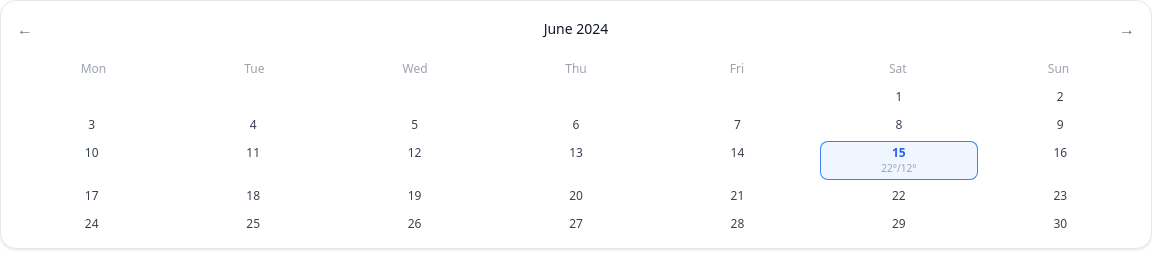
Scenario: HourlyCalendar › navigates between months
Step 1. Click the button named "Next month" → (1127, 29), box left=1115, top=13, right=1139, bottom=45
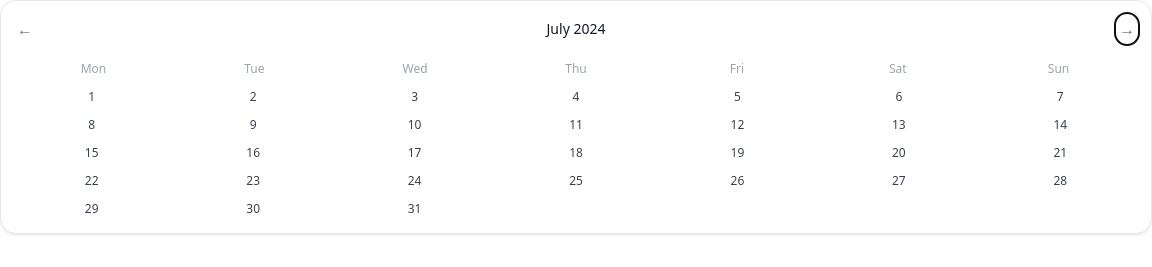
Expected: the text "July 2024" is shown, left=546, top=19, right=605, bottom=39
Step 2. Click the button named "Previous month" → (25, 29), box left=13, top=13, right=37, bottom=45
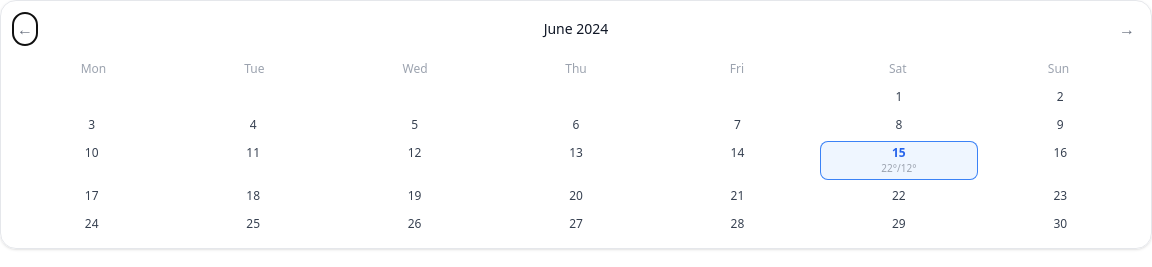
Expected: the text "June 2024" is shown, left=544, top=19, right=608, bottom=39
